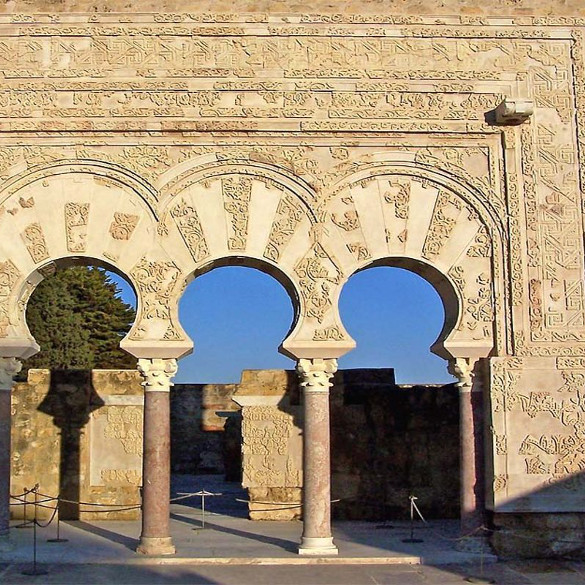arco-herradura: (316, 247, 475, 392), (158, 247, 316, 383), (1, 249, 157, 386)
